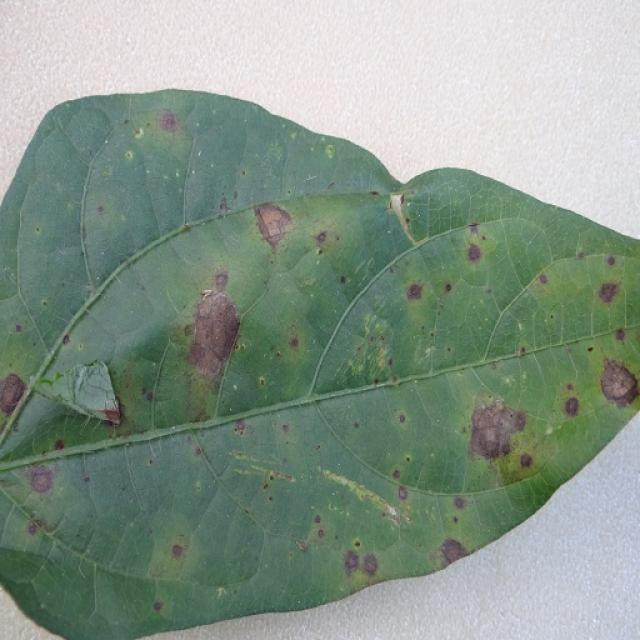Anthracnose: (78, 184, 139, 274), (187, 287, 242, 378), (465, 400, 528, 462), (346, 313, 394, 382), (70, 365, 122, 424), (256, 192, 298, 250), (64, 107, 112, 157), (597, 355, 639, 407), (430, 536, 473, 573), (401, 268, 434, 315), (159, 532, 193, 573), (0, 371, 28, 416), (303, 510, 332, 549), (463, 224, 487, 265), (388, 191, 410, 234), (557, 383, 582, 419), (27, 465, 56, 494), (597, 281, 621, 304), (313, 228, 335, 253), (28, 516, 54, 537), (158, 109, 180, 133), (285, 324, 301, 351), (361, 553, 379, 576), (343, 549, 360, 573), (382, 503, 400, 524), (266, 140, 283, 161), (268, 470, 294, 482), (233, 419, 248, 435), (214, 272, 228, 288), (219, 197, 231, 213), (468, 222, 481, 236), (453, 496, 466, 509), (397, 486, 408, 500), (183, 323, 194, 337), (295, 540, 307, 552), (615, 328, 626, 341), (325, 144, 335, 158), (54, 439, 65, 451), (134, 126, 144, 139), (66, 202, 76, 213), (153, 601, 163, 612), (538, 274, 548, 284), (606, 256, 616, 266), (62, 334, 71, 345), (145, 391, 154, 402), (392, 469, 401, 479), (96, 205, 105, 214), (289, 131, 298, 140), (398, 413, 406, 423), (282, 423, 290, 433), (15, 324, 23, 333), (519, 346, 527, 355), (577, 252, 586, 260), (313, 514, 321, 523), (195, 447, 203, 456), (340, 275, 347, 284), (399, 194, 405, 204), (370, 191, 380, 196), (587, 346, 594, 352), (354, 540, 360, 547), (275, 351, 281, 357), (405, 456, 411, 462), (269, 474, 274, 481), (263, 483, 268, 490), (354, 422, 359, 429), (35, 227, 40, 233), (268, 495, 273, 501)
Blackgram: (0, 89, 639, 639)
